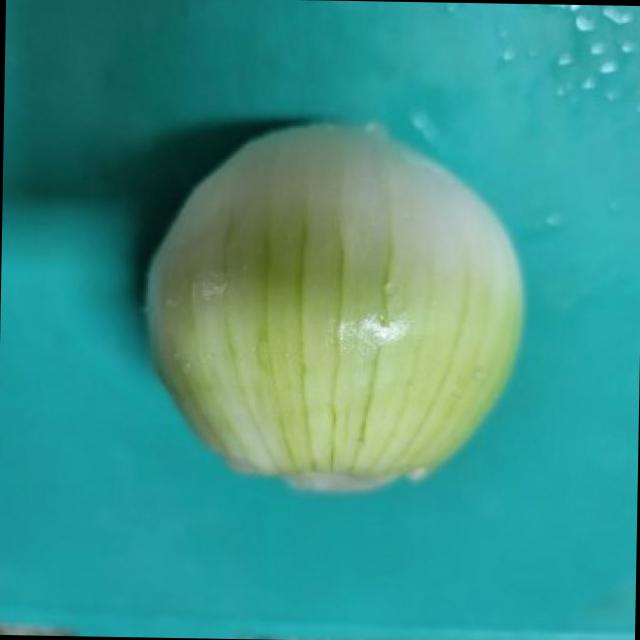Onion: (124, 100, 533, 510)
